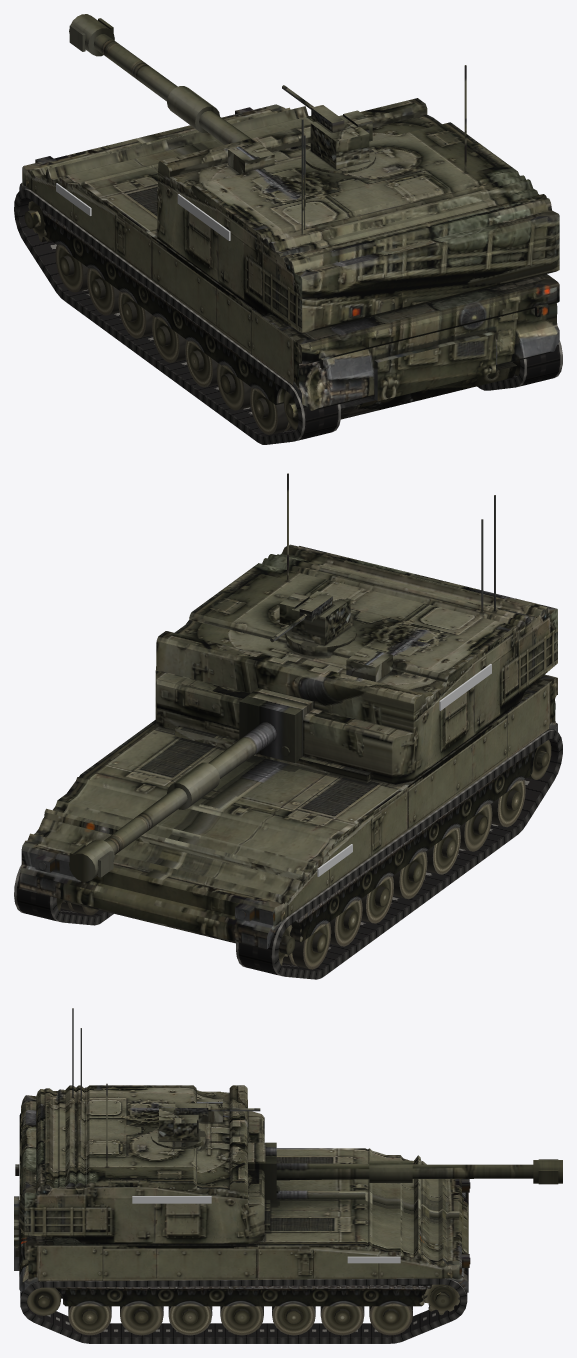
Rendered from paladin.glb.
3 renders of one model, top to bottom at view 1: azimuth 30°, elevation 25°; view 2: azimuth 150°, elevation 25°; view 3: azimuth 270°, elevation 25°, orthographic. The views are drawn at different scales.
Parts seen in each view (by area): view 1: Turret, Hull, TrackL, Gun, TrackR, WheelL6, WheelL5, WheelL2, WheelL3, WheelL1, WheelL4, WheelL0 (+1 smaller); view 2: Turret, Hull, TrackL, Gun, TrackR, WheelL0, WheelL3, WheelL6, WheelL4, WheelL2, WheelL5, WheelL1; view 3: Hull, Turret, TrackR, Gun, WheelR1, WheelR4, WheelR2, WheelR0, WheelR3, WheelR6, WheelR5, SprocketR (+1 smaller).
Part boxes in pixels (bbox=[...]): Turret: bbox=[157, 65, 559, 332]; Hull: bbox=[19, 104, 559, 419]; TrackL: bbox=[14, 188, 340, 444]; Gun: bbox=[69, 14, 250, 144]; TrackR: bbox=[477, 340, 562, 390]; WheelL6: bbox=[250, 387, 293, 434]; WheelL5: bbox=[216, 363, 251, 410]; WheelL2: bbox=[118, 291, 152, 338]; WheelL3: bbox=[151, 315, 186, 362]; WheelL1: bbox=[87, 268, 119, 315]; WheelL4: bbox=[185, 340, 217, 387]; WheelL0: bbox=[55, 245, 88, 292]; Turret: bbox=[155, 473, 557, 784]; Hull: bbox=[19, 674, 557, 949]; TrackL: bbox=[236, 730, 562, 979]; Gun: bbox=[69, 688, 313, 881]; TrackR: bbox=[14, 864, 113, 925]; WheelL0: bbox=[282, 922, 331, 969]; WheelL3: bbox=[392, 852, 427, 899]; WheelL6: bbox=[491, 780, 525, 827]; WheelL4: bbox=[426, 827, 460, 874]; WheelL2: bbox=[361, 876, 393, 923]; WheelL5: bbox=[459, 804, 492, 851]; WheelL1: bbox=[330, 899, 362, 946]; Hull: bbox=[14, 1148, 470, 1306]; Turret: bbox=[19, 1008, 270, 1244]; TrackR: bbox=[20, 1278, 467, 1343]; Gun: bbox=[248, 1142, 562, 1200]; WheelR1: bbox=[320, 1306, 364, 1335]; WheelR4: bbox=[168, 1306, 212, 1335]; WheelR2: bbox=[272, 1306, 315, 1335]; WheelR0: bbox=[369, 1306, 412, 1335]; WheelR3: bbox=[220, 1306, 263, 1335]; WheelR6: bbox=[68, 1306, 111, 1335]; WheelR5: bbox=[120, 1306, 163, 1335]; SprocketR: bbox=[424, 1284, 459, 1315].
Bounding box in the file's own units: 3.55 × 4.17 × 8.31.
Materials: 3 (2 with a texture image).
